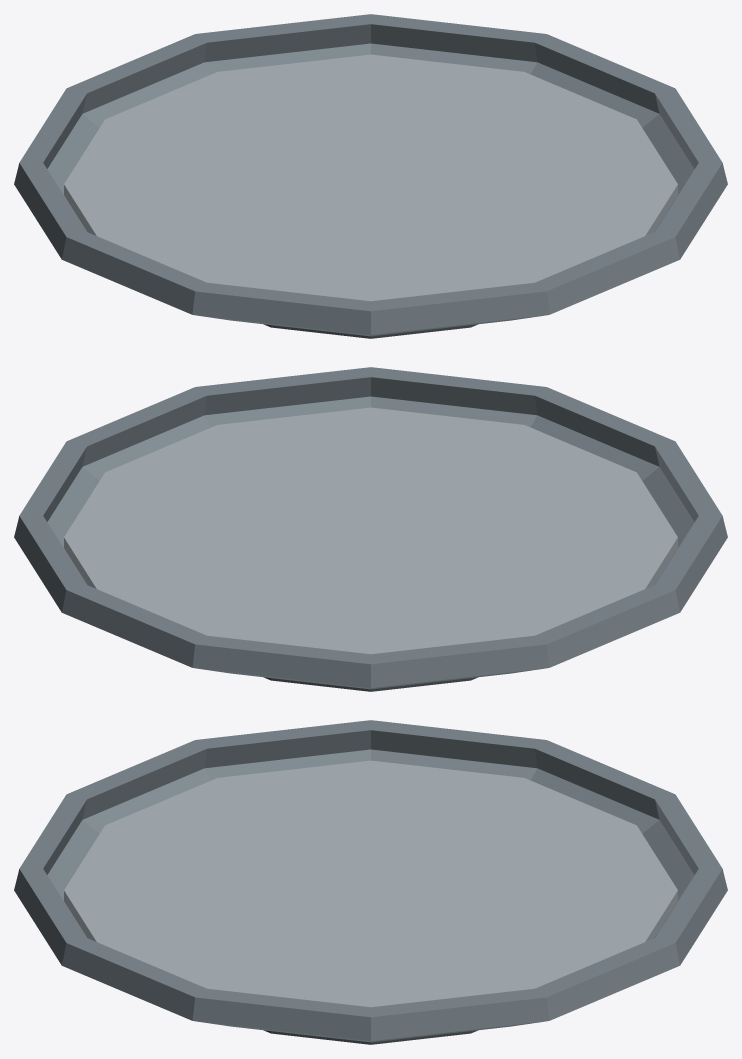
The model's file is mdvl_food_plate_01.glb.
3 renders of one model, top to bottom at view 1: azimuth 30°, elevation 25°; view 2: azimuth 150°, elevation 25°; view 3: azimuth 270°, elevation 25°, orthographic.
Parts seen in each view (by area): view 1: mdvl_food_plate_01; view 2: mdvl_food_plate_01; view 3: mdvl_food_plate_01.
Part boxes in pixels (x1,y1,x2,y2): mdvl_food_plate_01: [14, 14, 727, 338]; mdvl_food_plate_01: [14, 367, 727, 691]; mdvl_food_plate_01: [14, 720, 727, 1044].
Bounding box in the file's own units: 0.24 × 0.034 × 0.24.
Materials: 1 (1 with a texture image).
